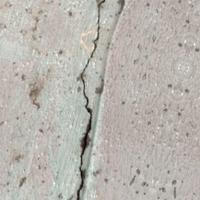crack: (59, 0, 130, 199)
